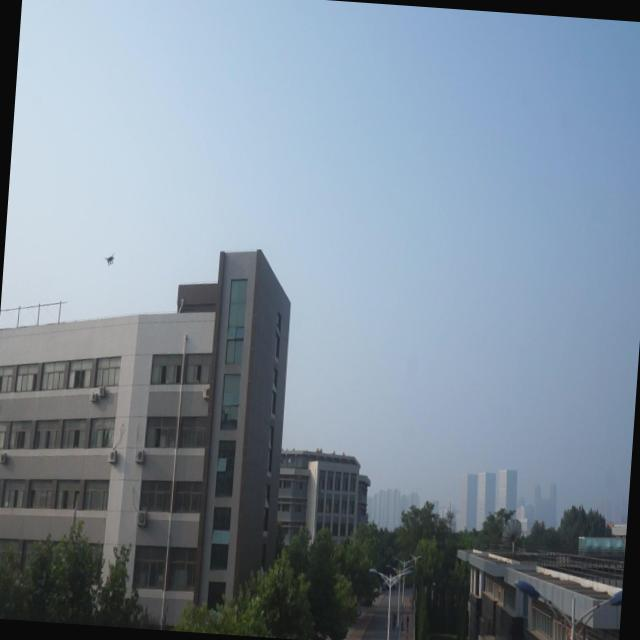drone: (102, 247, 117, 269)
